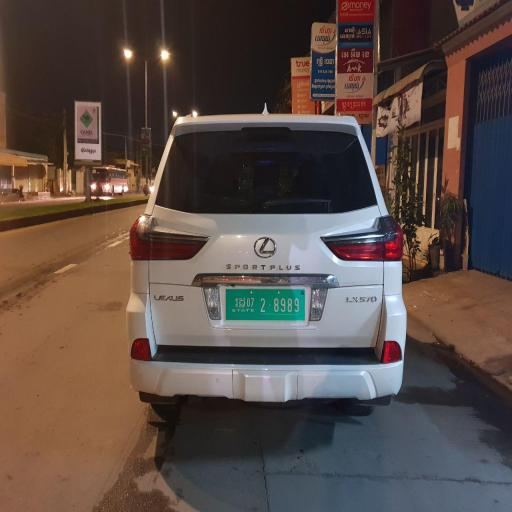Plate Number: (226, 286, 304, 322)
